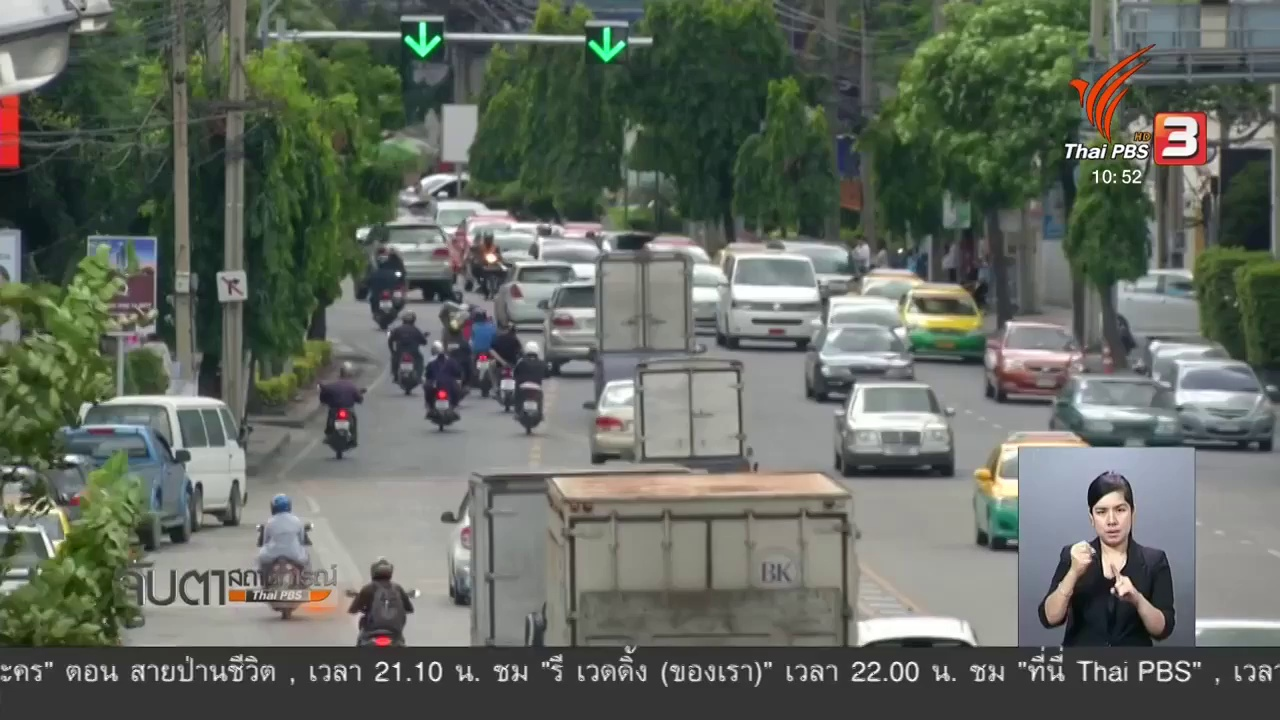helmet: (371, 549, 400, 577), (332, 352, 354, 383), (513, 333, 539, 356), (266, 486, 296, 505), (395, 301, 422, 321), (424, 332, 440, 356), (475, 227, 494, 246)
